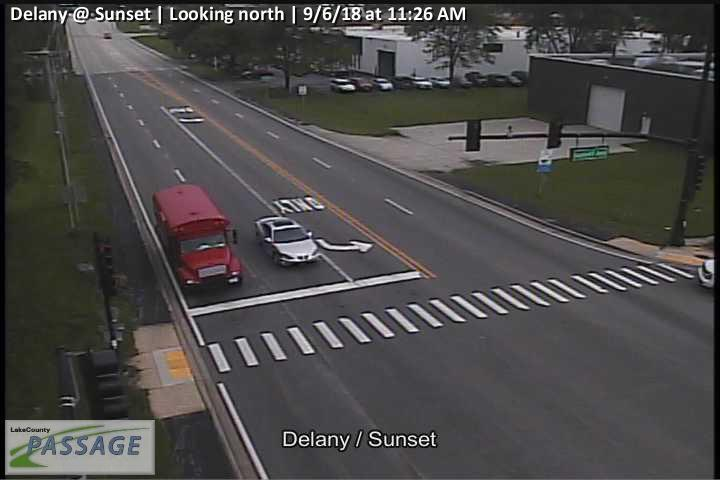SUV: (353, 77, 372, 91)
Sedan: (255, 216, 322, 266), (330, 77, 355, 91), (393, 77, 415, 90), (373, 76, 392, 90), (412, 77, 432, 89), (431, 76, 450, 87)
Truck: (152, 183, 243, 290)
